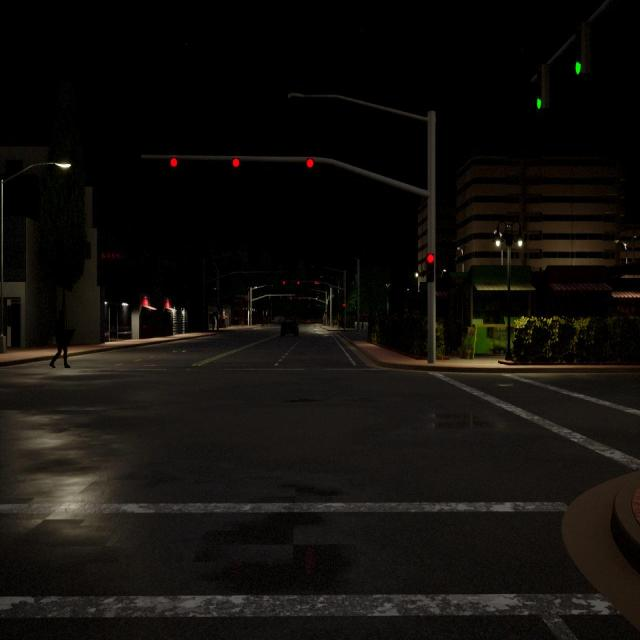Pedestrian: (48, 307, 72, 370), (209, 310, 216, 332)
Vehicle: (280, 318, 299, 337)
traffic_light: (536, 62, 550, 110), (575, 26, 587, 75), (426, 253, 434, 282), (169, 157, 178, 168), (232, 158, 240, 168), (306, 158, 314, 168), (342, 304, 345, 308), (283, 281, 285, 284), (315, 281, 317, 284), (298, 282, 300, 284), (290, 297, 292, 299), (299, 297, 300, 300), (309, 297, 310, 300)
